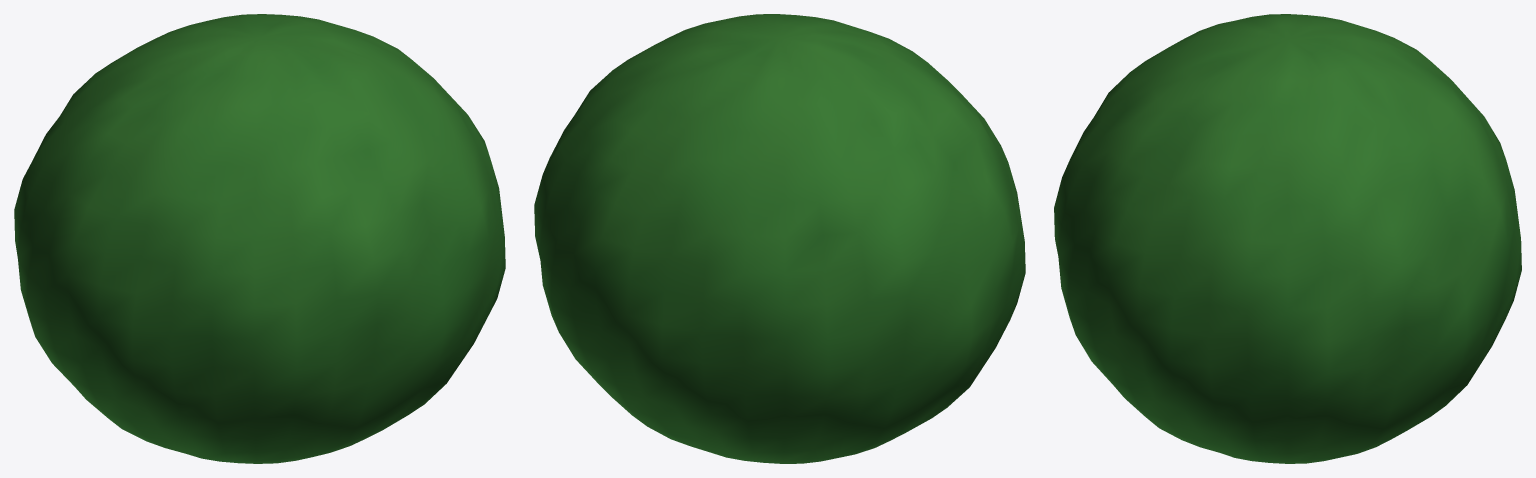
The model's file is furn_disp_hedge.glb.
3 renders of one model, left to right at view 1: azimuth 30°, elevation 25°; view 2: azimuth 150°, elevation 25°; view 3: azimuth 270°, elevation 25°, orthographic.
Visible parts, largest first — view 1: furn_disp_hedge_main; view 2: furn_disp_hedge_main; view 3: furn_disp_hedge_main.
Part boxes in pixels (x1,y1,x2,y2): furn_disp_hedge_main: [14, 14, 505, 463]; furn_disp_hedge_main: [534, 14, 1025, 463]; furn_disp_hedge_main: [1054, 14, 1521, 463].
Size of the model in its own units: 0.76 by 0.68 by 0.7226.
